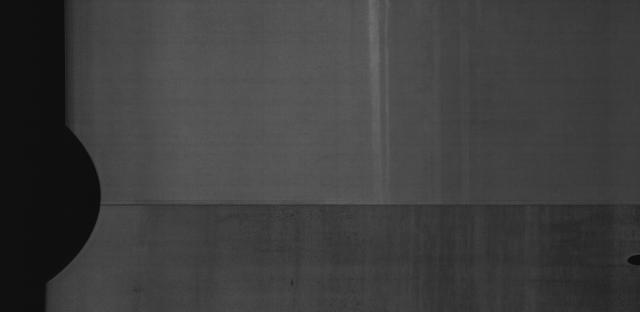crescent_gap: (41, 117, 108, 292)
punching_hole: (625, 251, 640, 267)
welding_line: (96, 198, 640, 216)
